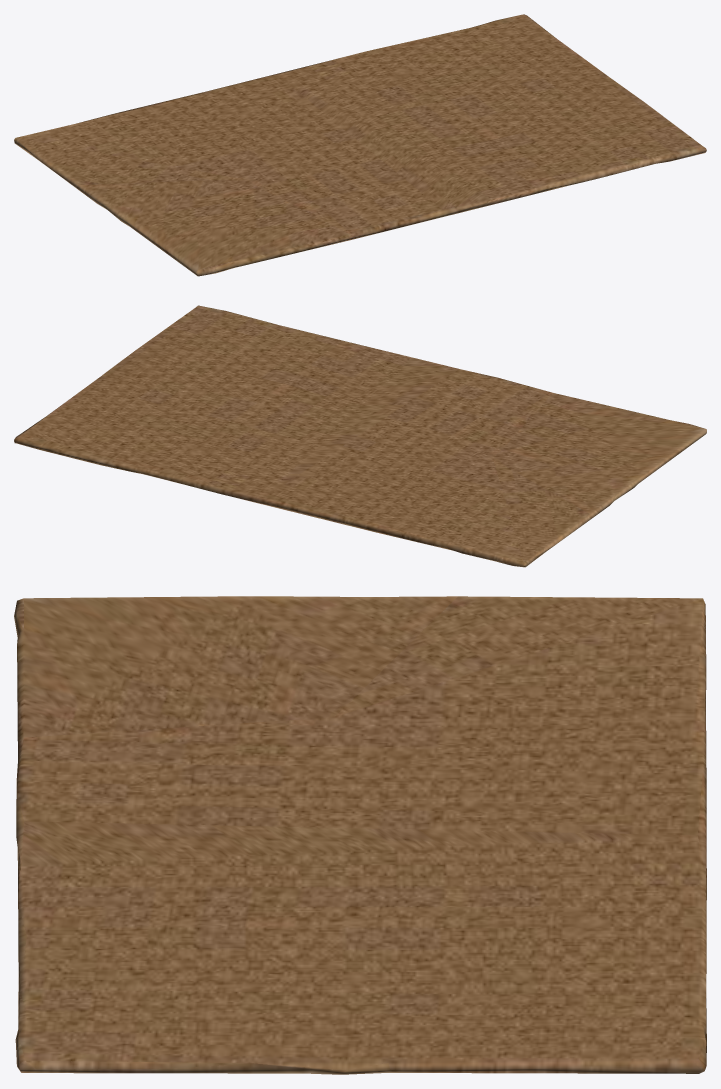
The model's file is 03 - SINDAL Door mat - natural 50x80 cm.glb.
3 renders of one model, top to bottom at view 1: azimuth 30°, elevation 25°; view 2: azimuth 150°, elevation 25°; view 3: azimuth 270°, elevation 25°, orthographic. The views are drawn at different scales.
Parts seen in each view (by area): view 1: PRT_00se1g3y_P01_S01_NV01; view 2: PRT_00se1g3y_P01_S01_NV01; view 3: PRT_00se1g3y_P01_S01_NV01.
Boxes of the visible parts, x1,y1,x2,y2 form: PRT_00se1g3y_P01_S01_NV01: (14,14,706,276); PRT_00se1g3y_P01_S01_NV01: (14,305,706,567); PRT_00se1g3y_P01_S01_NV01: (14,596,706,1074).
Bounding box in the file's own units: 0.7993 × 0.013 × 0.499.
Materials: 1 (1 with a texture image).
